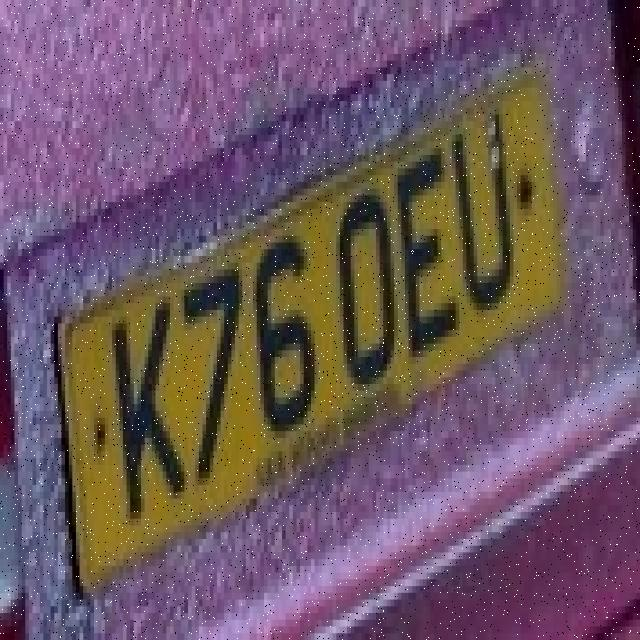licenseplate: (54, 66, 632, 618)
